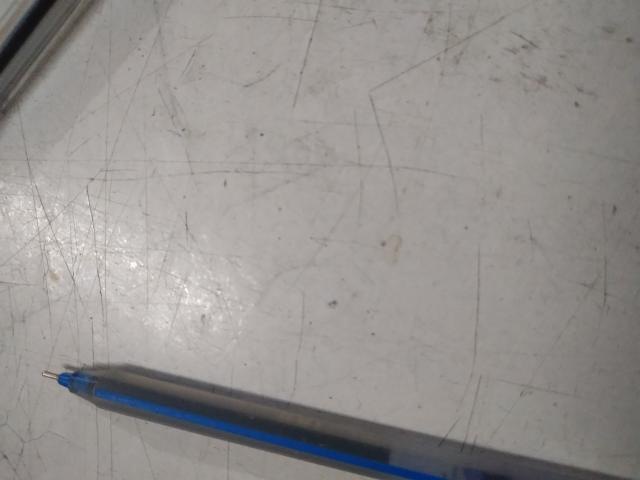PEN: (1, 22, 115, 480)
